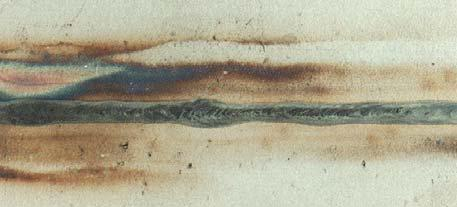soldas: (0, 33, 457, 184)
